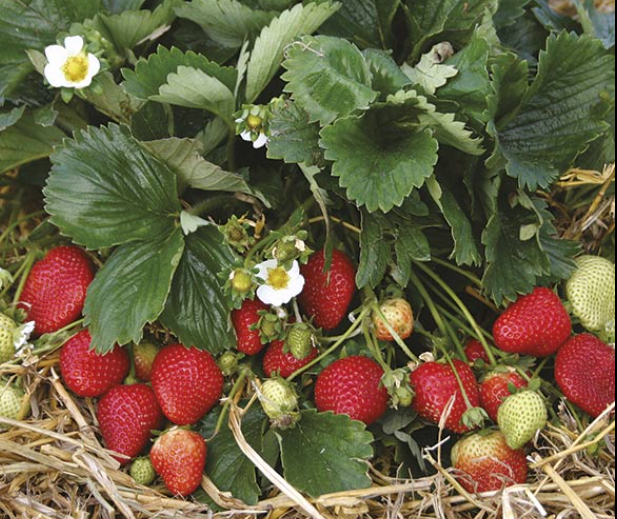ripe: (22, 243, 94, 332), (490, 285, 575, 355), (151, 344, 223, 425), (313, 353, 390, 428), (409, 355, 483, 431), (97, 378, 159, 461), (552, 332, 614, 414), (56, 334, 131, 396), (299, 246, 353, 329), (151, 425, 204, 499), (230, 295, 277, 355), (263, 333, 310, 383), (486, 365, 528, 417), (461, 331, 490, 367), (134, 339, 158, 378)
unripe: (451, 425, 527, 496), (562, 254, 614, 332), (496, 385, 549, 450), (370, 294, 415, 341), (131, 452, 156, 489), (288, 321, 312, 357)
